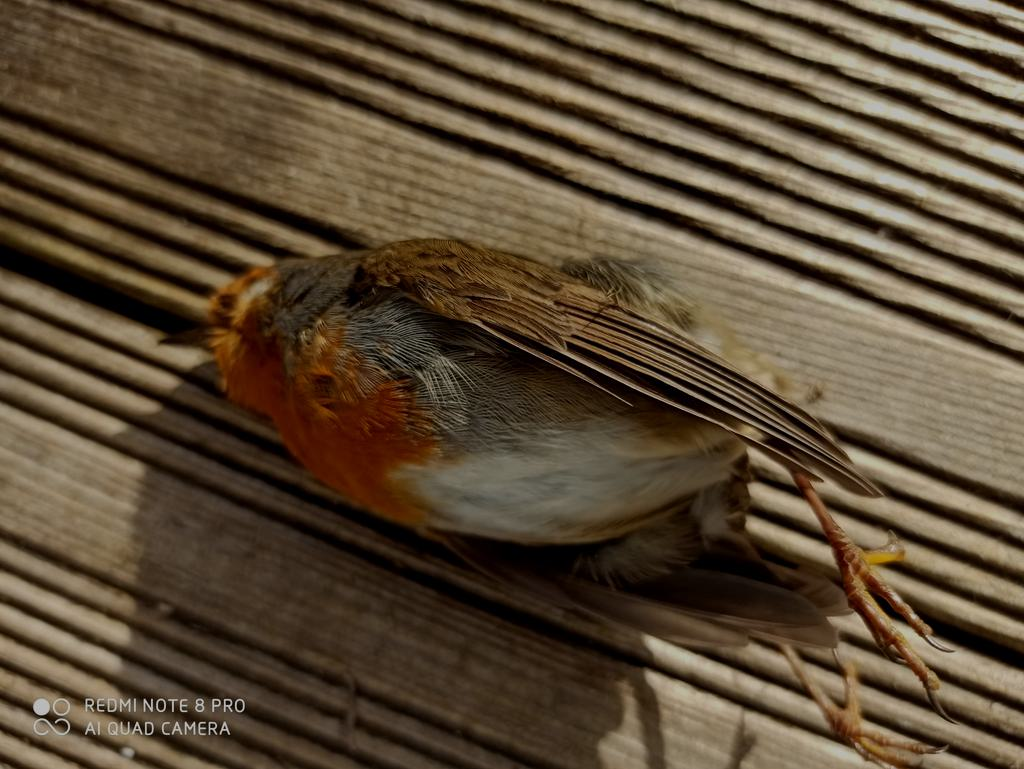ErithacusRubecula: (157, 236, 959, 769)
